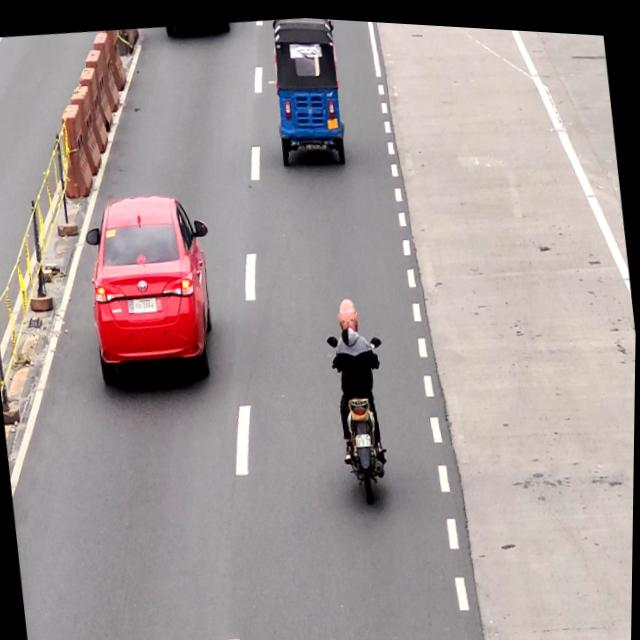Car: (79, 185, 219, 396)
License-Plate: (128, 289, 160, 316), (352, 426, 374, 446)
Motorcycle: (324, 298, 399, 496)
